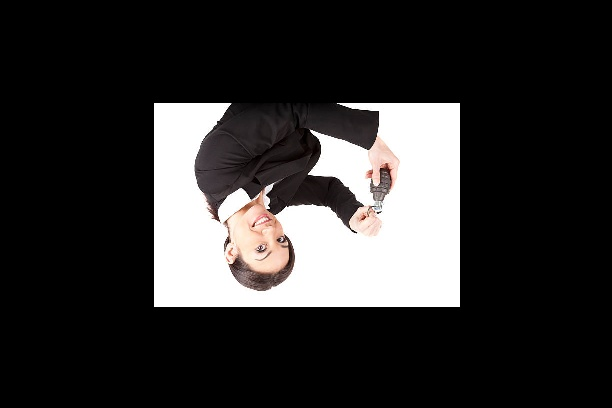e1: (370, 164, 391, 216)
